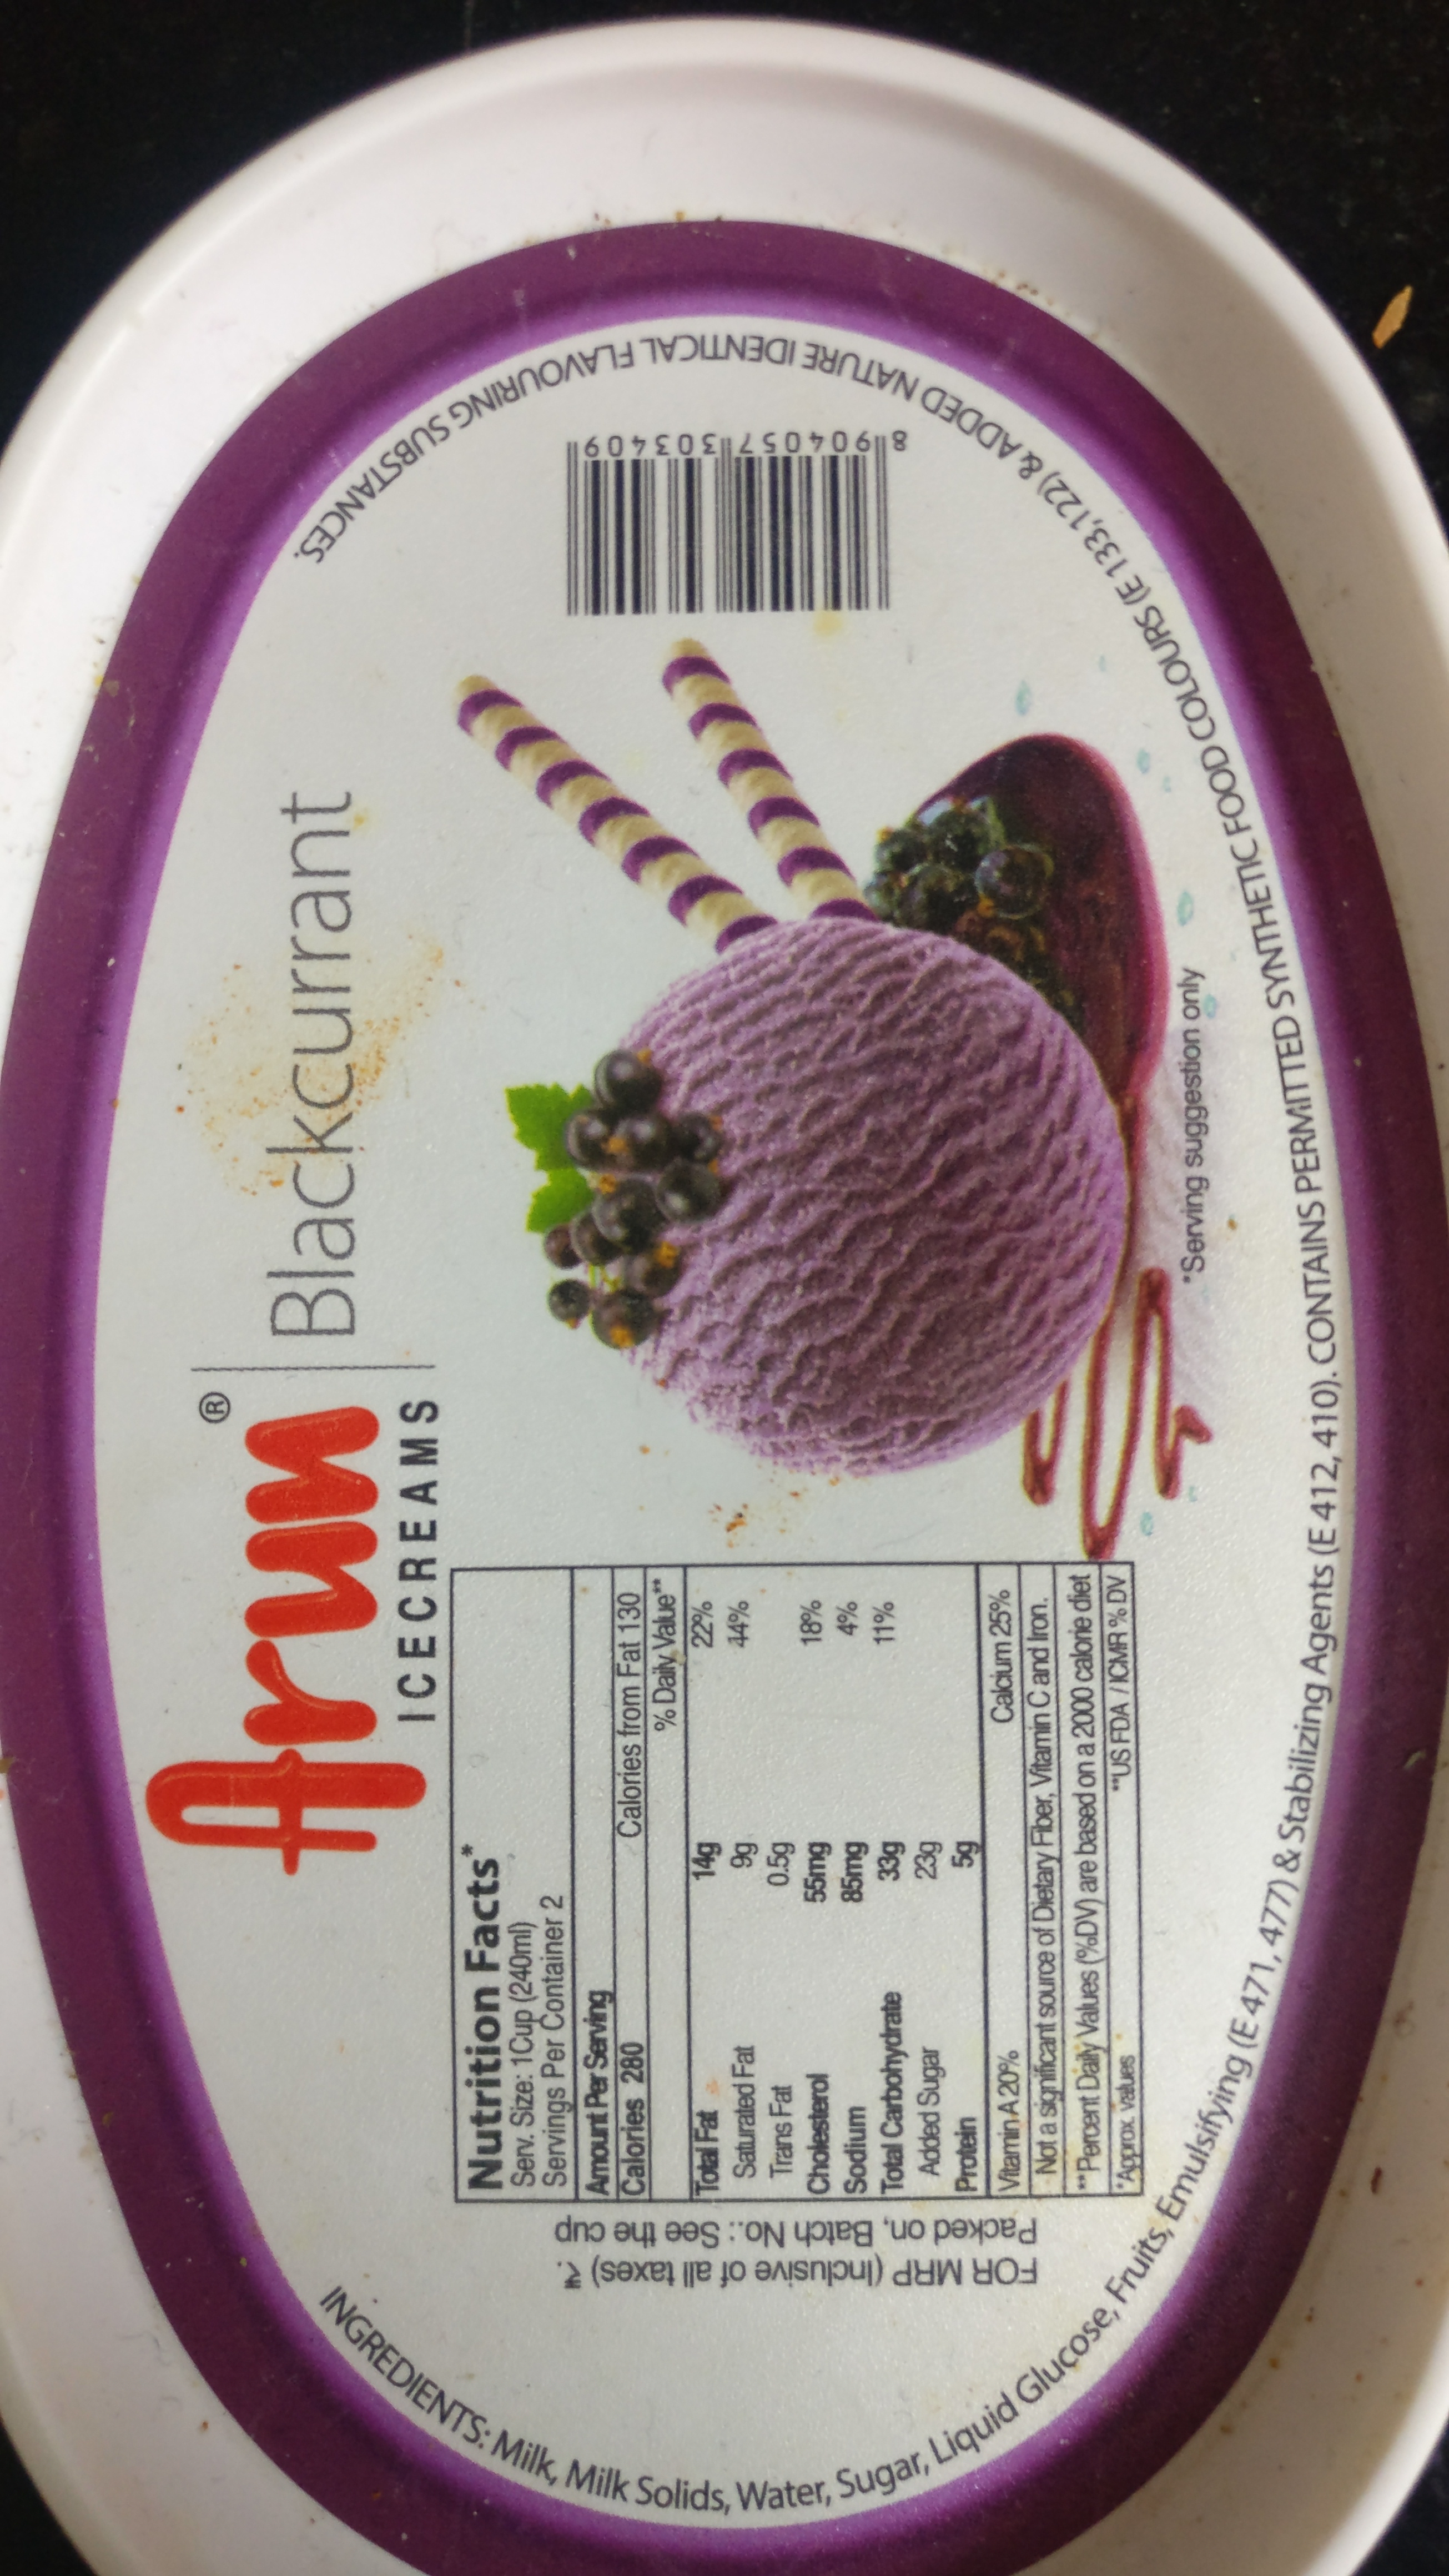barcode: (540, 421, 916, 633)
